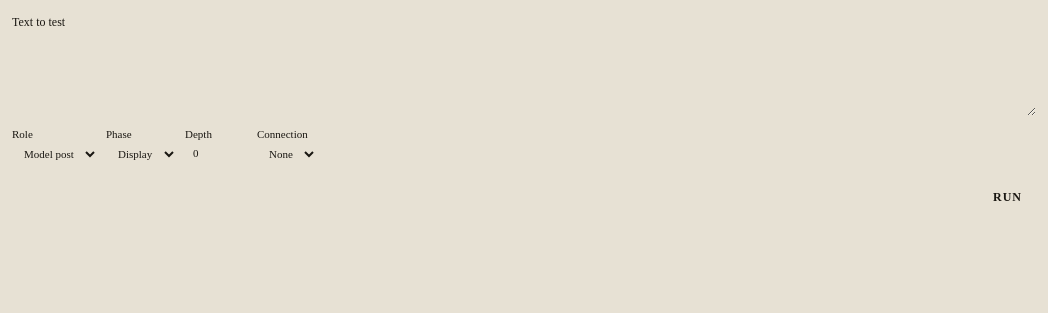
a deletion is shown struck through, as text and never as markup
This screenshot has width=1048, height=313.
In the text box labelled "Text to test": [524, 75] box [12,34,1036,116], type "<think><b>plan</b></think>She nodded."
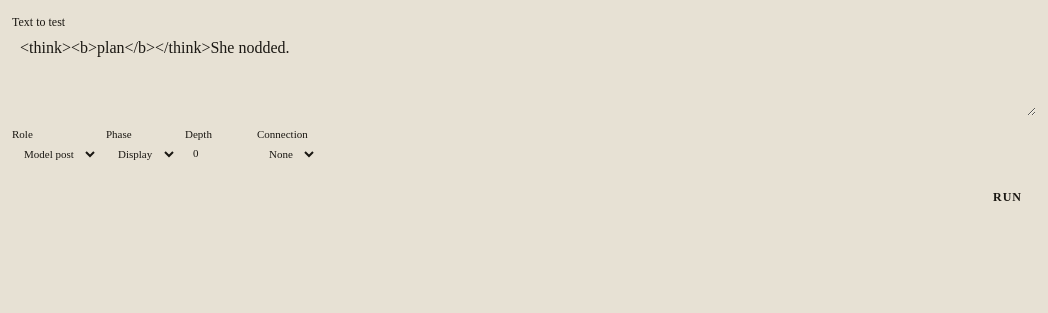
Click the button "Run": [1008, 198] box [979,182,1036,213]
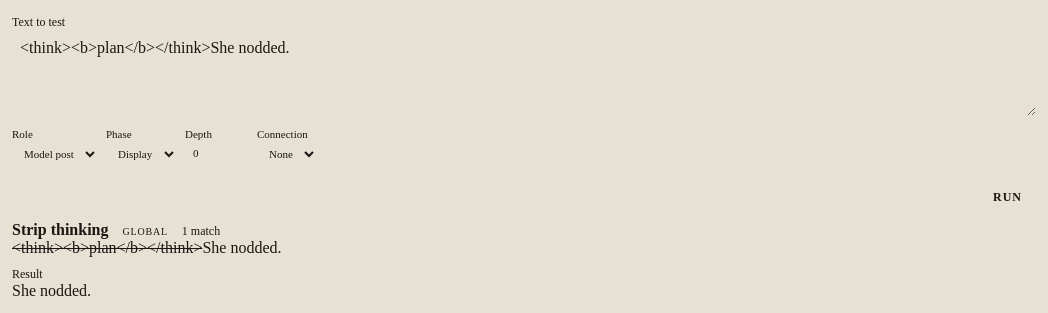
expect the text "Strip thinking" is shown: met, box [12,221,108,238]
